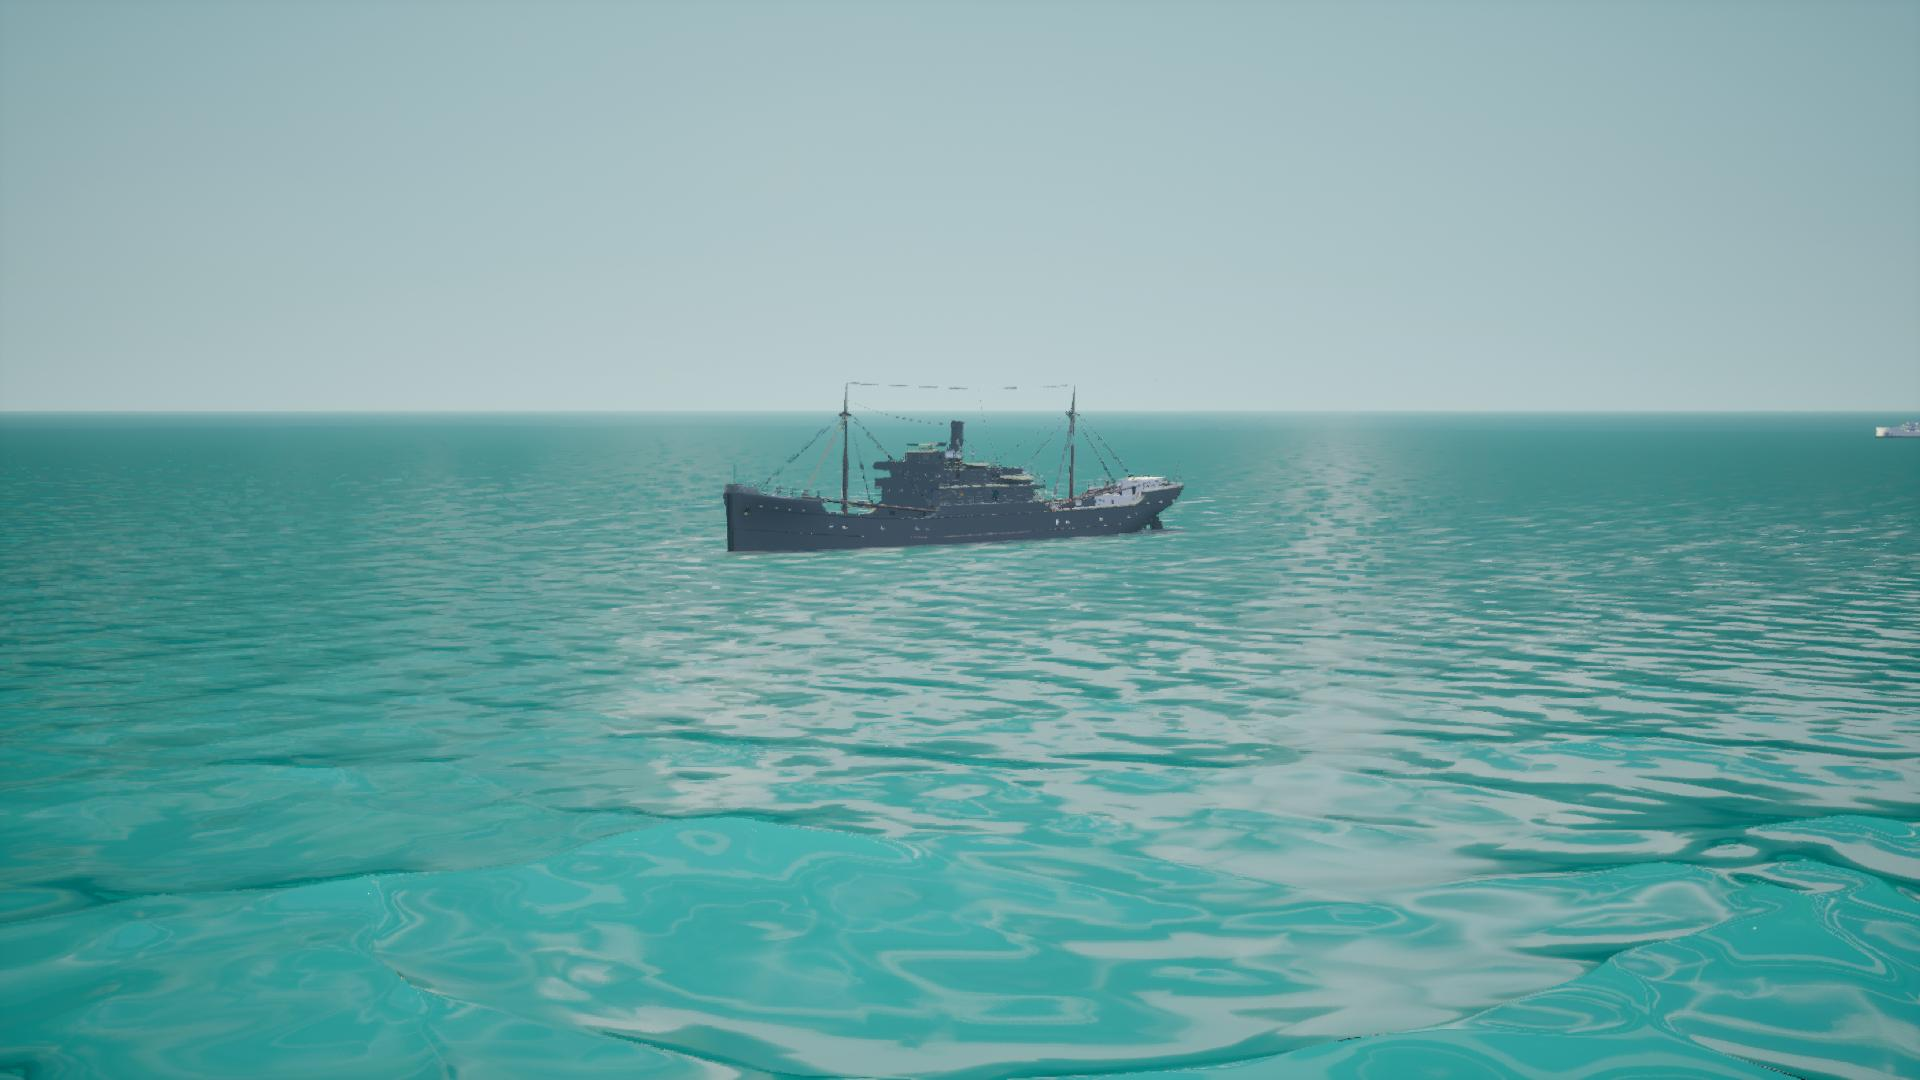Fishing Boat: (720, 384, 1183, 558)
